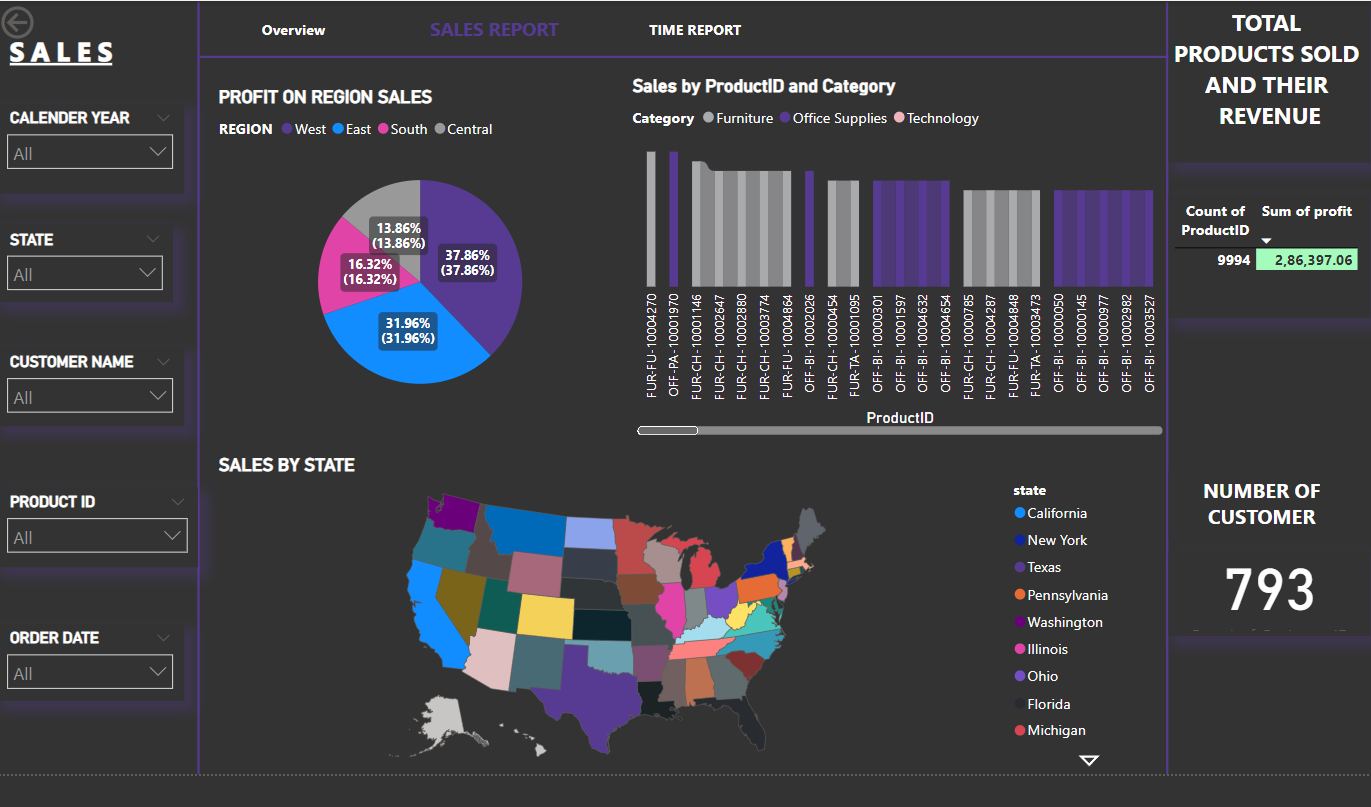

The page's visual inventory and layout, read from the dashboard file:
{"tool":"powerbi","page":{"name":"SALES REPORT","canvas":[1280,720],"ordinal":1},"visuals":[{"type":"shapeMap","title":"SALES BY STATE","fields":{"Value":["CountNonNull(data_analysis orderfact.sales)"],"Category":["data_analysis geography_dim.state"],"Series":["data_analysis geography_dim.state"]},"box":[202.9,421.7,888.7,298.3],"z":0},{"type":"pieChart","title":"PROFIT ON REGION SALES","fields":{"Category":["data_analysis geography_dim.Region"],"Y":["CountNonNull(data_analysis orderfact.profit)"]},"box":[202.9,79.5,385.1,316.6],"z":1000},{"type":"shape","box":[124.7,1.2,128.4,718.8],"z":2000},{"type":"textbox","box":[0,25.7,121,62.3],"z":3000},{"type":"actionButton","box":[0,0,100,40],"z":4000},{"type":"ribbonChart","title":"Sales by ProductID and Category","fields":{"Category":["data_analysis orderfact.ProductID"],"Y":["Count(data_analysis orderfact.sales)"],"Series":["data_analysis product_dim.Category"]},"box":[588,68.5,503.6,339.8],"z":5000},{"type":"pageNavigator","box":[188.3,0,551.3,51.3],"z":6000},{"type":"shape","box":[189.5,36.7,902.1,29.3],"z":7000},{"type":"slicer","fields":{"Values":["LocalDateTable_2fb53911-9730-4717-8495-35f770c958fc.Year"]},"box":[0,95.3,174.8,84.3],"z":8000},{"type":"slicer","fields":{"Values":["data_analysis geography_dim.state"]},"box":[0,207.8,165,72.1],"z":9000},{"type":"slicer","fields":{"Values":["data_analysis customer_dim.CustomerName"]},"box":[0,322.7,174.8,73.3],"z":10000},{"type":"slicer","fields":{"Values":["data_analysis orderfact.ProductID"]},"box":[0,452.3,188.3,74.6],"z":11000},{"type":"slicer","fields":{"Values":["LocalDateTable_2fb53911-9730-4717-8495-35f770c958fc.Date"]},"box":[0,579.4,174.8,72.1],"z":12000},{"type":"shape","box":[1026.8,1.2,128.4,718.8],"z":13000},{"type":"textbox","box":[1091.6,0,188.3,150.4],"z":14000},{"type":"tableEx","title":"TOTAL PRODUCTS AND THEIR REVENUE","fields":{"Values":["data_analysis orderfact.ProductID","data_analysis orderfact.profit"]},"box":[1091.6,179.7,188.3,116.1],"z":15000},{"type":"textbox","box":[1091.6,437.6,178.5,63.6],"z":16000},{"type":"card","fields":{"Values":["Count(data_analysis orderfact.CustomerID)"]},"box":[1091.6,512.2,188.3,79.5],"z":17000}]}

Visuals, with their boxes on the page's 1280x720 design canvas (x1, y1, x2, y2). These are canvas units, not pixel positions in the 1371x807 screenshot, which may show the page scaled, cropped or inside an application window:
"SALES BY STATE" shapeMap: x1=203 y1=422 x2=1092 y2=720
"PROFIT ON REGION SALES" pieChart: x1=203 y1=80 x2=588 y2=396
shape: x1=125 y1=1 x2=253 y2=720
textbox: x1=0 y1=26 x2=121 y2=88
actionButton: x1=0 y1=0 x2=100 y2=40
"Sales by ProductID and Category" ribbonChart: x1=588 y1=68 x2=1092 y2=408
pageNavigator: x1=188 y1=0 x2=740 y2=51
shape: x1=190 y1=37 x2=1092 y2=66
slicer - LocalDateTable_2fb53911-9730-4717-8495-35f770c958fc.Year: x1=0 y1=95 x2=175 y2=180
slicer - data_analysis geography_dim.state: x1=0 y1=208 x2=165 y2=280
slicer - data_analysis customer_dim.CustomerName: x1=0 y1=323 x2=175 y2=396
slicer - data_analysis orderfact.ProductID: x1=0 y1=452 x2=188 y2=527
slicer - LocalDateTable_2fb53911-9730-4717-8495-35f770c958fc.Date: x1=0 y1=579 x2=175 y2=652
shape: x1=1027 y1=1 x2=1155 y2=720
textbox: x1=1092 y1=0 x2=1280 y2=150
"TOTAL PRODUCTS AND THEIR REVENUE" tableEx: x1=1092 y1=180 x2=1280 y2=296
textbox: x1=1092 y1=438 x2=1270 y2=501
card - Count(data_analysis orderfact.CustomerID): x1=1092 y1=512 x2=1280 y2=592
